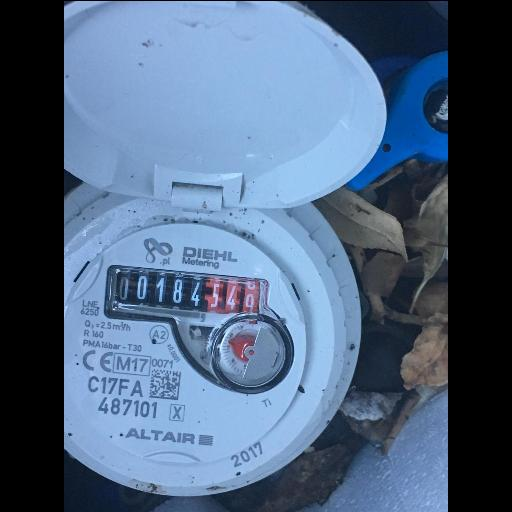0: (114, 268, 132, 304), (134, 270, 150, 307)
1: (153, 271, 168, 307)
4: (224, 278, 242, 315), (188, 273, 204, 311)
5: (203, 277, 225, 314)
8: (170, 272, 186, 310)
9: (243, 279, 262, 315)
border_water_meter_number: (107, 267, 265, 326)
